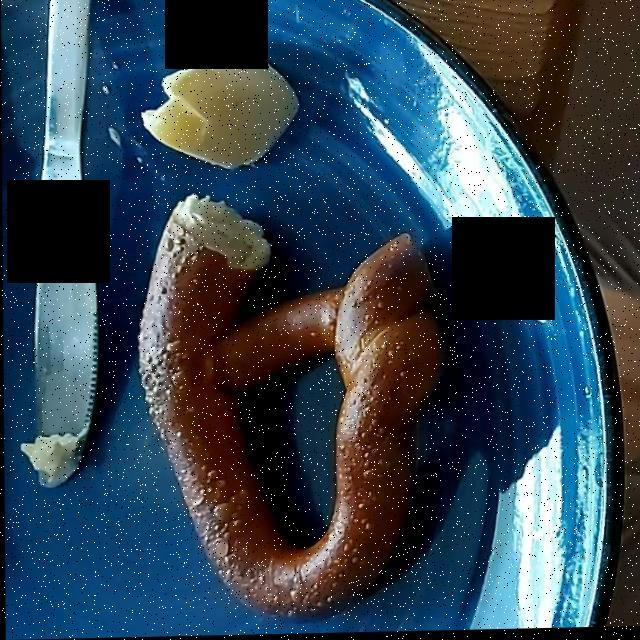butter: (144, 46, 293, 165)
pretzel: (139, 232, 440, 614)
